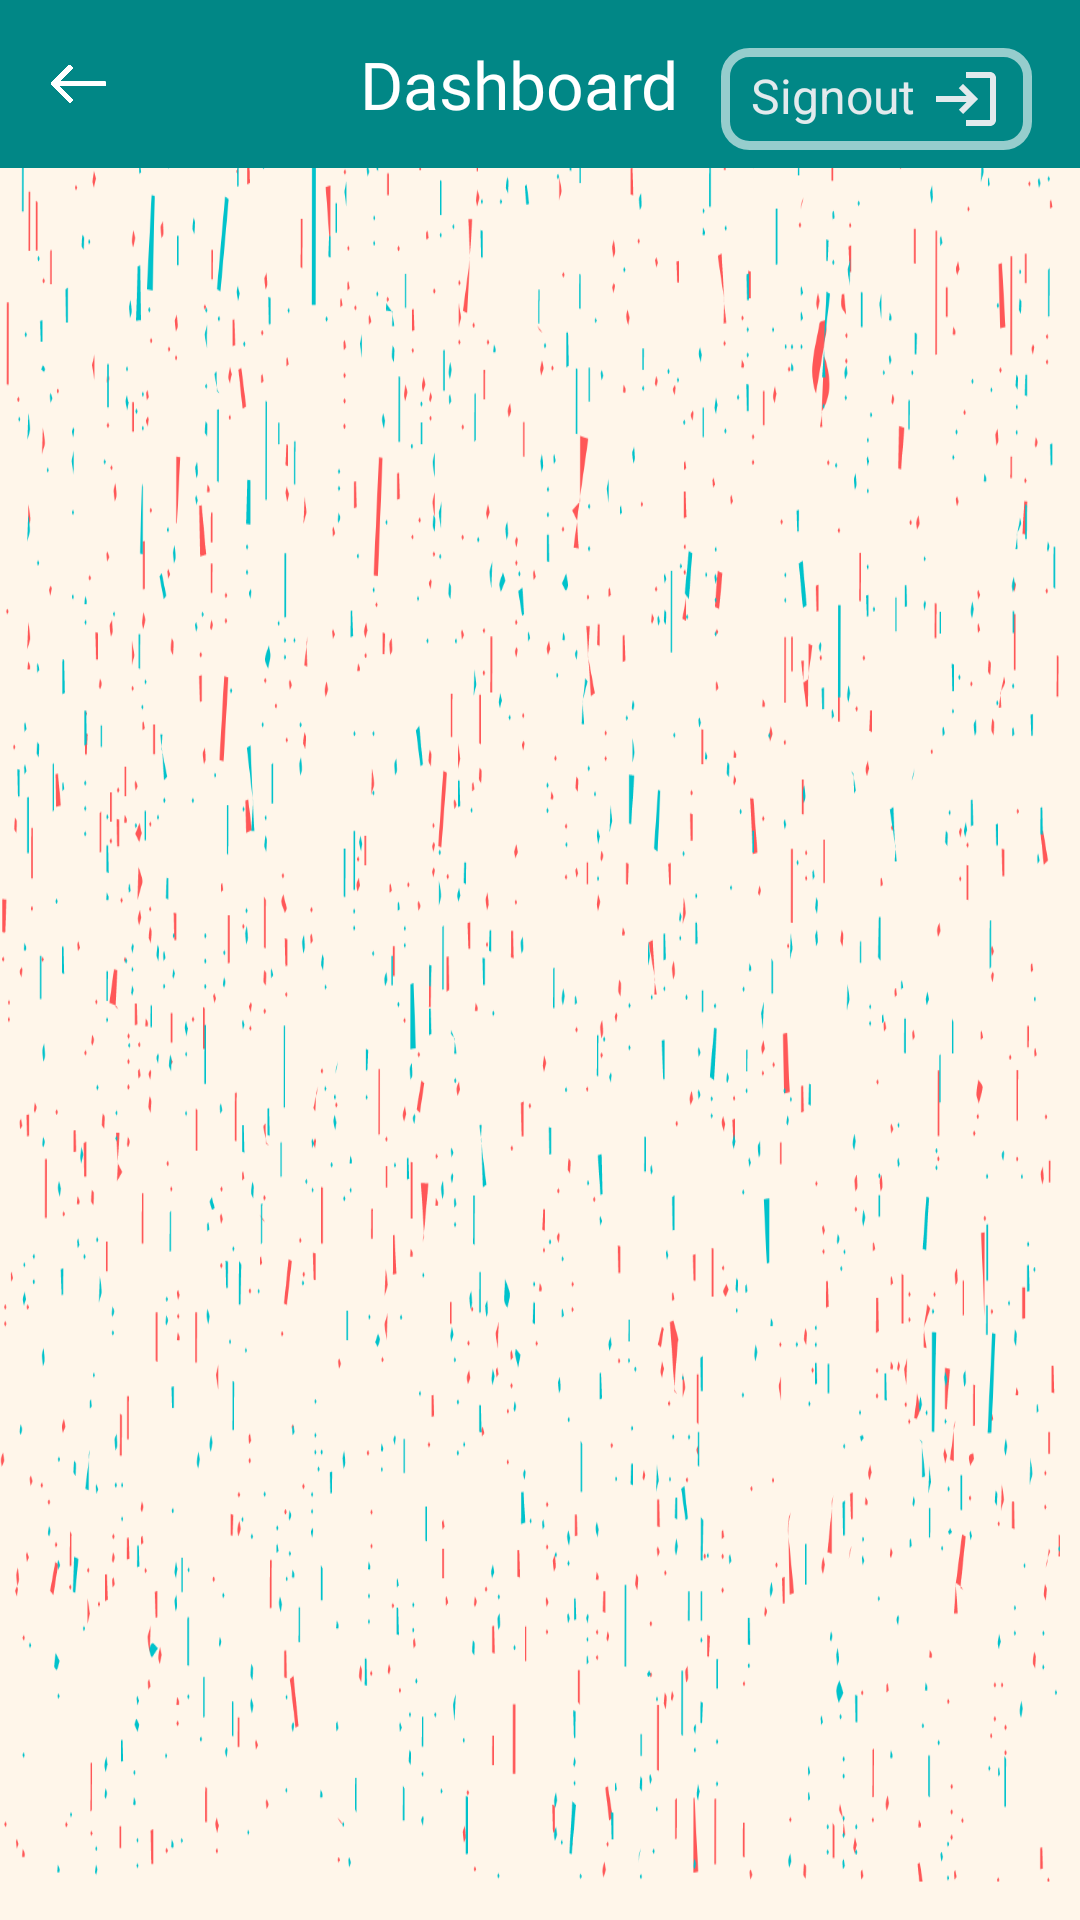

Screen size 1080px×1920px. Icon name, then its center in pixels as [x,y]:
back: [78,84]
